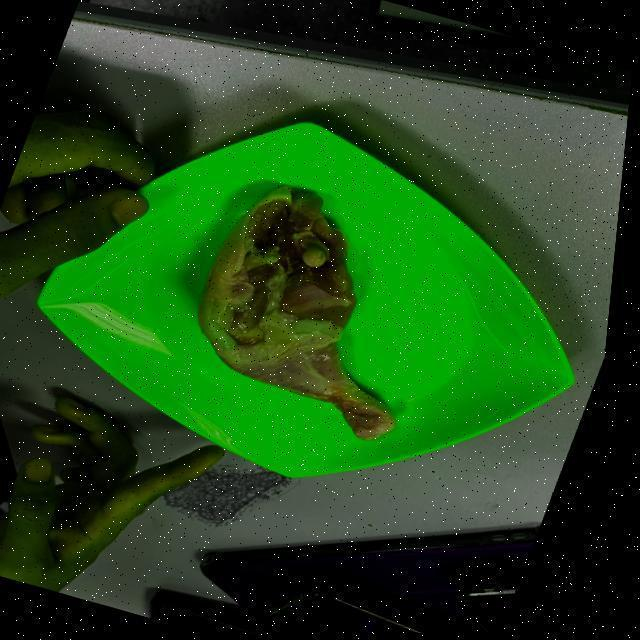quater: (206, 178, 402, 438)
